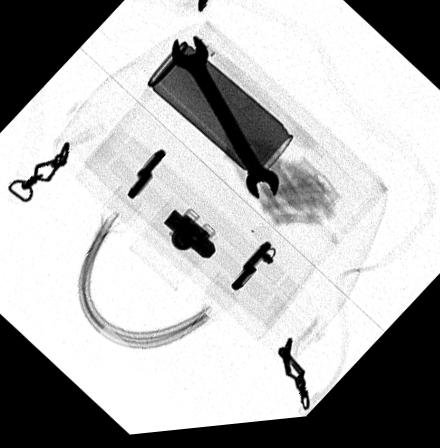Wrench: (169, 36, 280, 204)
